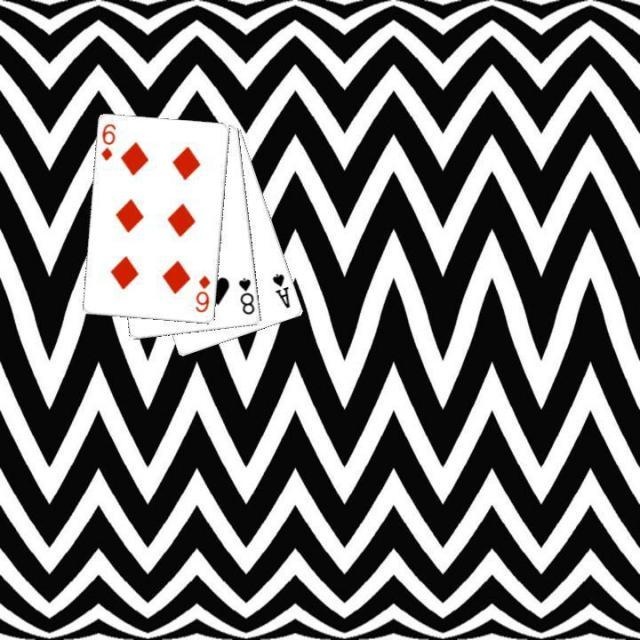6D: (98, 120, 119, 163), (192, 272, 212, 315)
8S: (234, 274, 256, 316)
AS: (268, 270, 292, 310)
